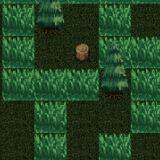Obstacle: (35, 4, 67, 36), (99, 68, 130, 100), (68, 36, 99, 68)
Slow: (2, 5, 34, 101), (132, 36, 160, 133), (99, 5, 131, 68), (35, 69, 99, 100), (35, 99, 66, 160), (98, 134, 131, 160)
